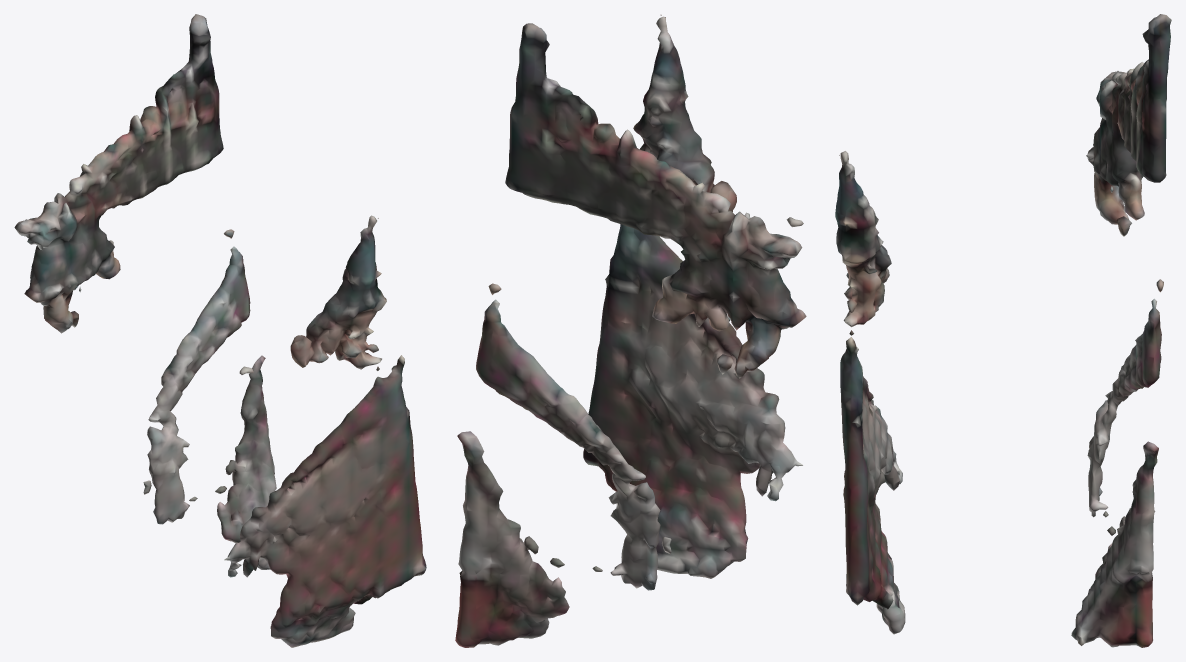
Rendered from CHR_TripoSR_A01.glb.
The picture shows the model from 3 angles, left to right: view 1: azimuth 30°, elevation 25°; view 2: azimuth 150°, elevation 25°; view 3: azimuth 270°, elevation 25°; orthographic projection. The views are drawn at different scales.
Parts seen in each view (by area): view 1: triposr_figure; view 2: triposr_figure; view 3: triposr_figure.
Part boxes in pixels (left/top/right/bottom): triposr_figure: left=14, top=14, right=426, bottom=647; triposr_figure: left=455, top=14, right=806, bottom=647; triposr_figure: left=835, top=14, right=1171, bottom=647.
Bounding box in the file's own units: 0.5726 × 1 × 0.5064.
